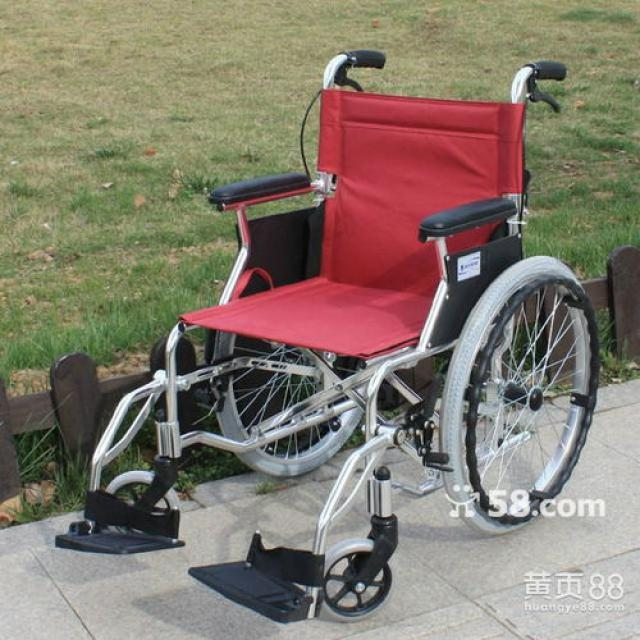wheelchair: (56, 39, 625, 632)
